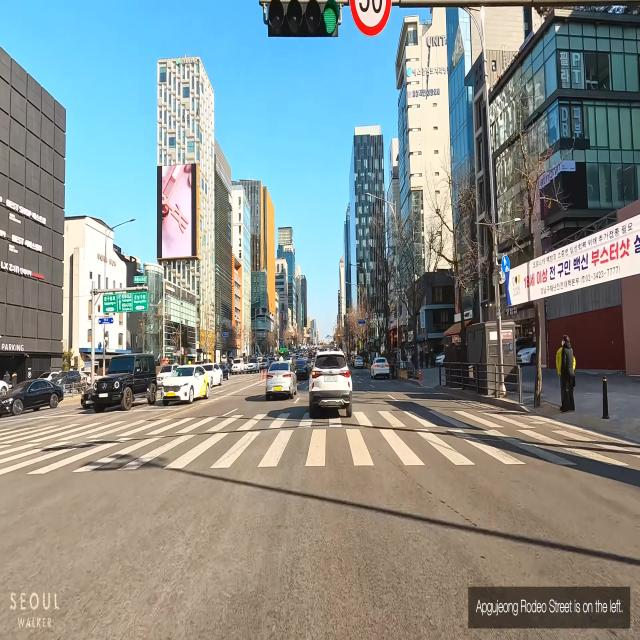Green Light: (320, 4, 340, 36)
